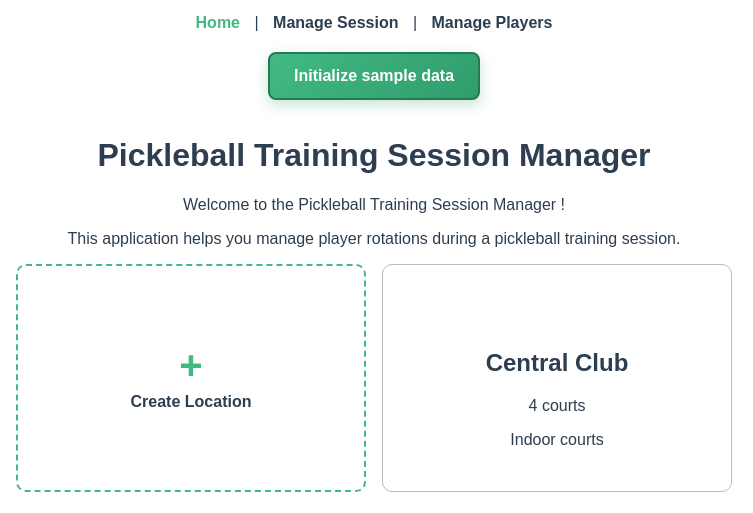
Test: Application routes › centers the Location commands on the top edge above the title
The width and height of the screenshot is (753, 513).
What coordinates should you click on to do the following:
click the button with class "location-card-select"
I would click on:
 (558, 363)
Its box is [486, 349, 629, 377].
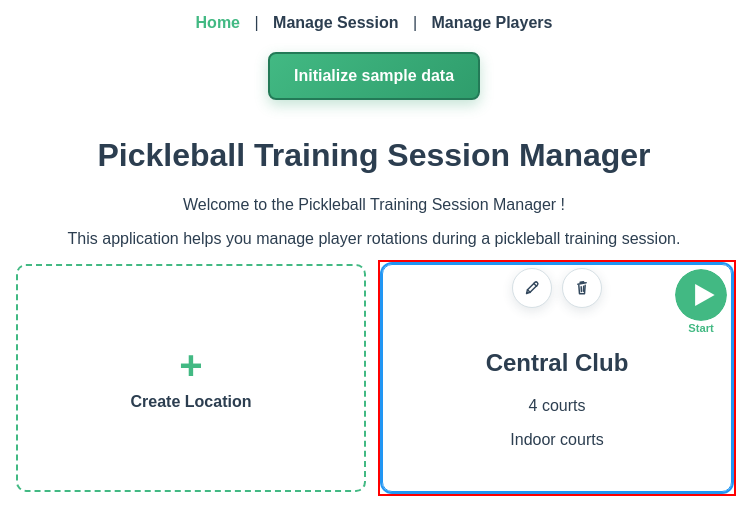
Expected: the element with class "location-card-command-rail" is shown, [512, 268, 602, 308]
Expected: the button with class "location-card-session-action" reads "Start", [675, 269, 727, 334]
